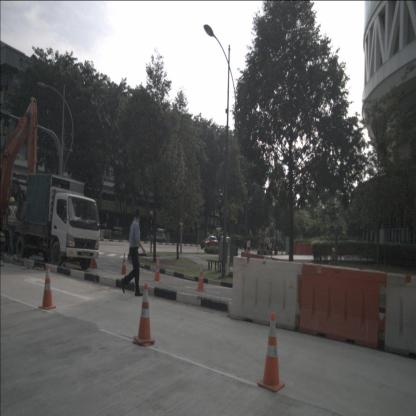barrier: (297, 263, 386, 350), (228, 256, 303, 331), (384, 274, 416, 359)
cone: (257, 311, 285, 394), (132, 281, 155, 346), (41, 264, 56, 310), (195, 263, 206, 291), (153, 256, 162, 282), (119, 251, 128, 275)
